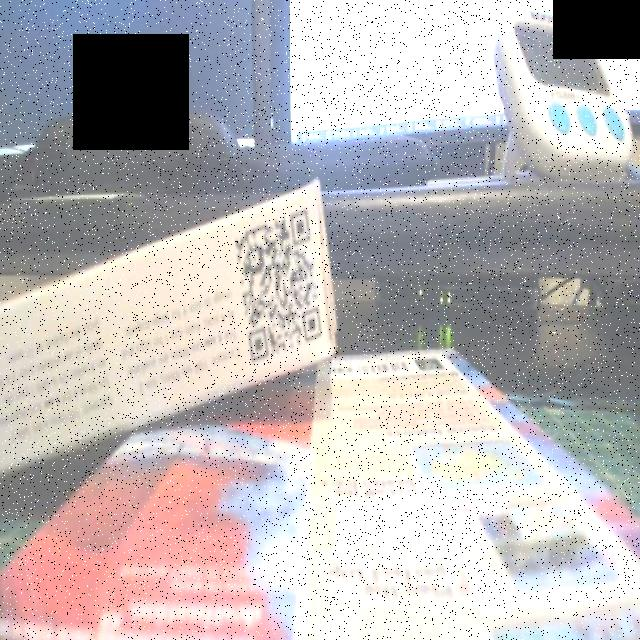QR_CODE: (224, 182, 336, 392)
